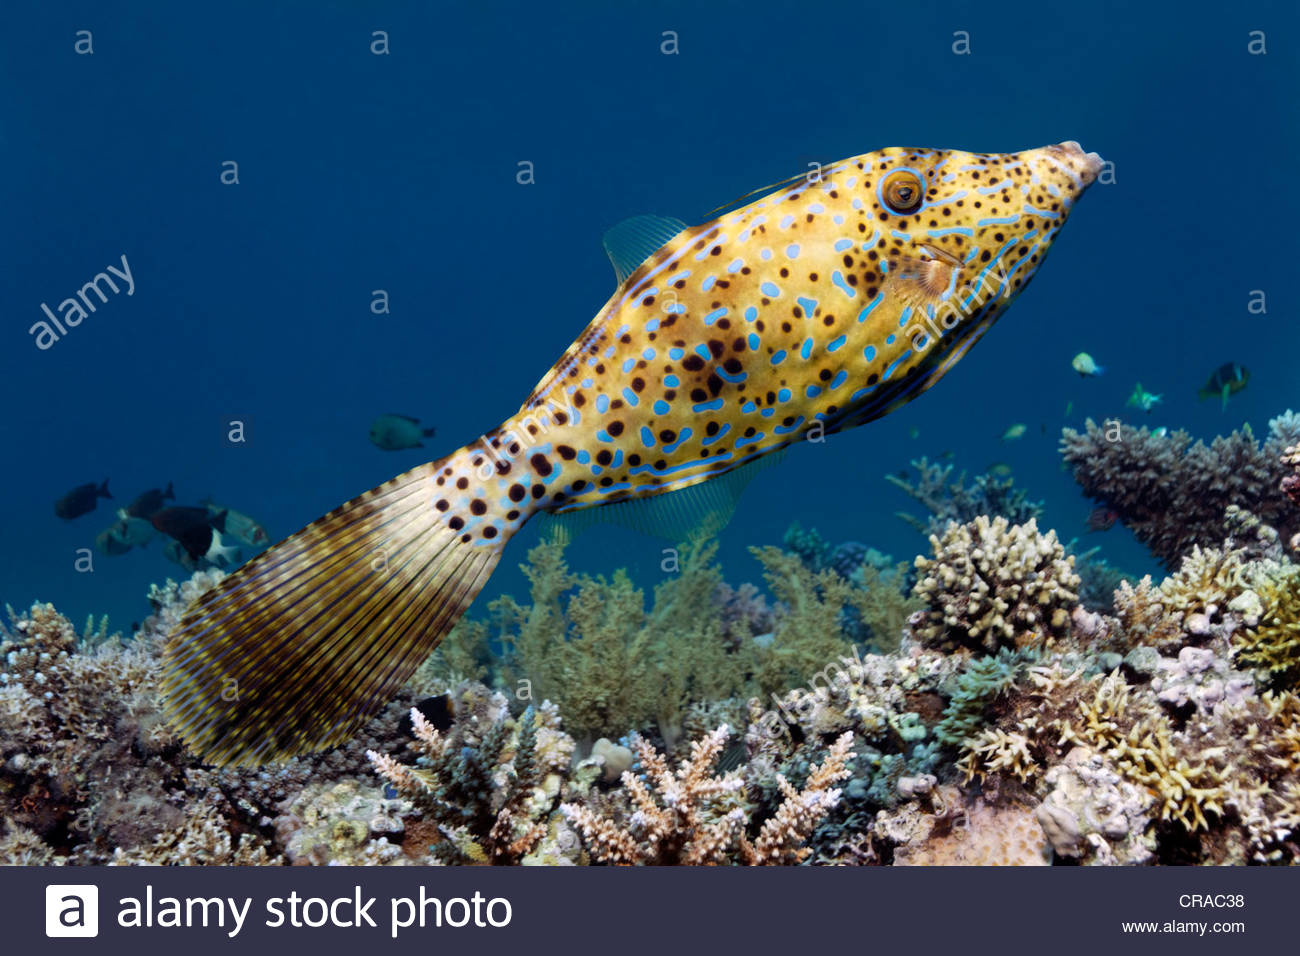Aluterus_scriptus: (143, 125, 1116, 775)
